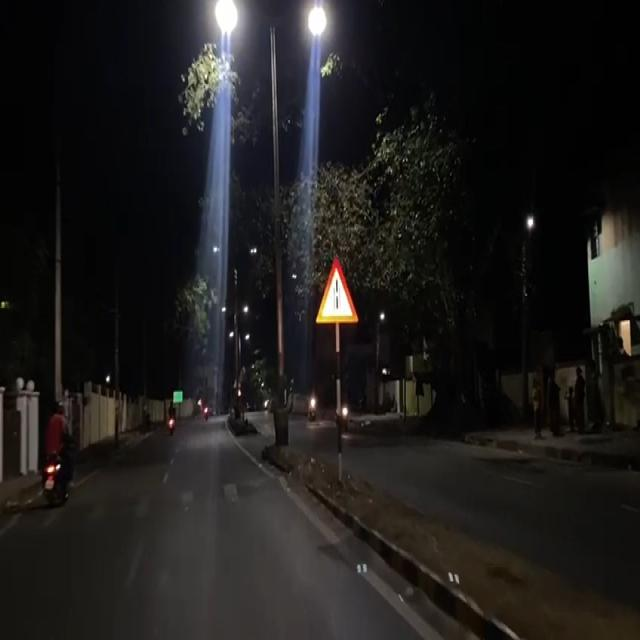bien_cam: (315, 254, 359, 326)
